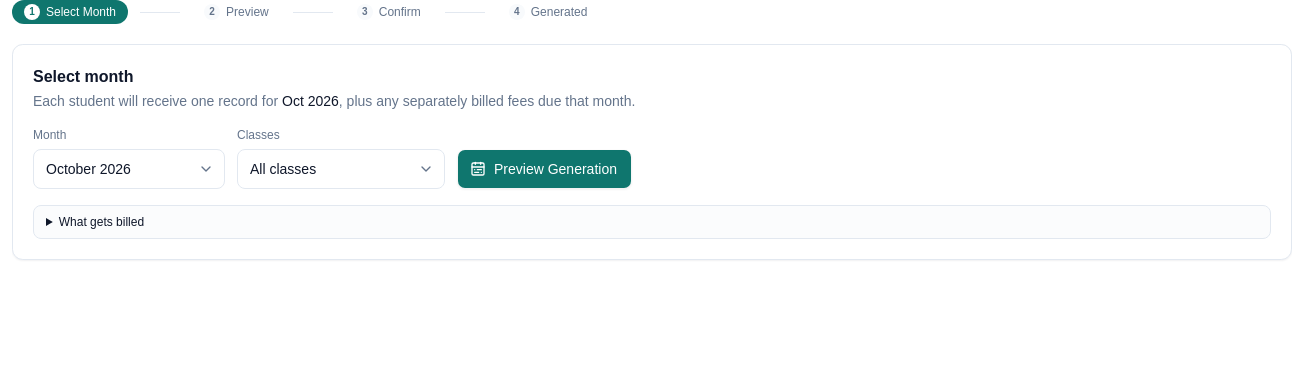
Test: MonthlyGenerationPage › disables confirm when everything is already billed
This screenshot has width=1304, height=382.
Click the button "Preview Generation" at (544, 169), box left=457, top=149, right=632, bottom=189
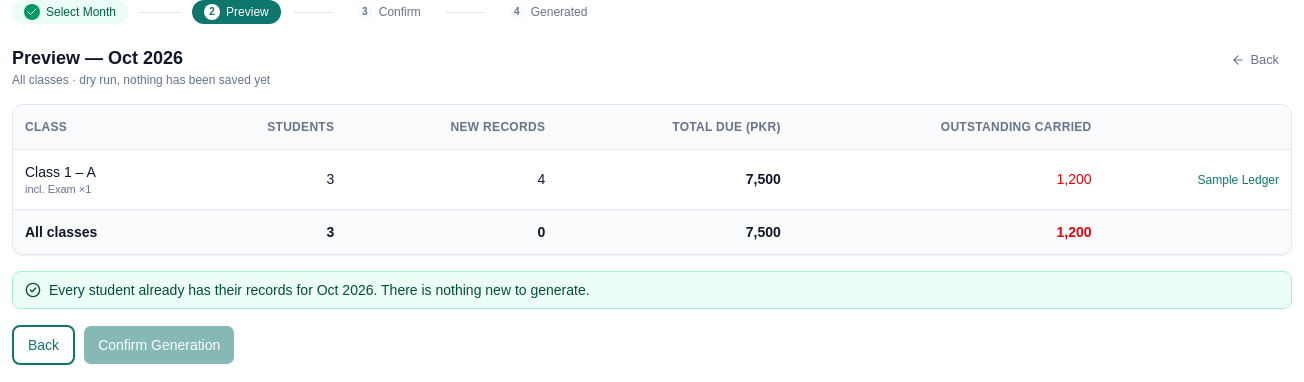
Expected: the text "nothing new to generate" is shown, left=374, top=282, right=590, bottom=298
Expected: the button "Confirm Generation" is disabled, left=83, top=325, right=235, bottom=365
